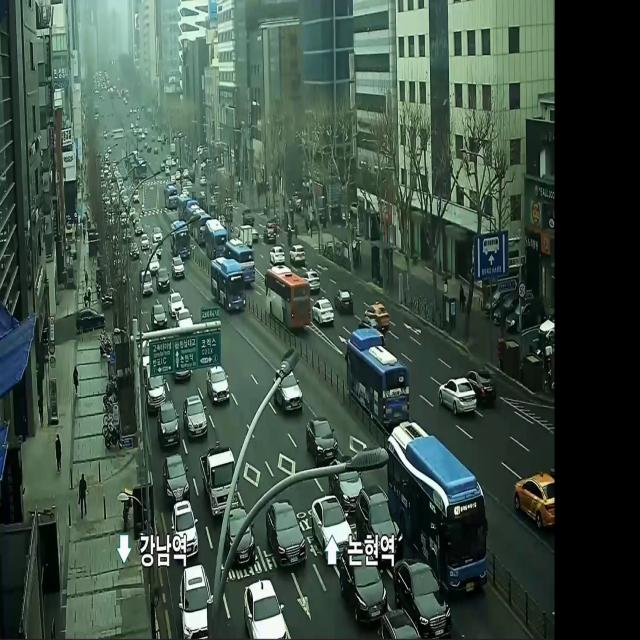car: (384, 412, 492, 604), (340, 321, 414, 440), (259, 260, 318, 336), (209, 250, 248, 316)
motorcycle: (388, 553, 458, 639), (338, 537, 389, 638), (512, 454, 555, 538), (265, 494, 307, 578), (309, 488, 353, 566), (432, 374, 480, 418), (272, 358, 304, 419), (158, 452, 192, 506), (464, 361, 503, 408), (304, 412, 339, 464), (181, 390, 209, 446), (204, 358, 234, 408), (156, 397, 181, 453), (310, 297, 336, 331), (168, 247, 186, 281), (149, 303, 169, 331), (334, 285, 353, 314), (167, 288, 185, 318)
truck: (196, 444, 242, 520)
